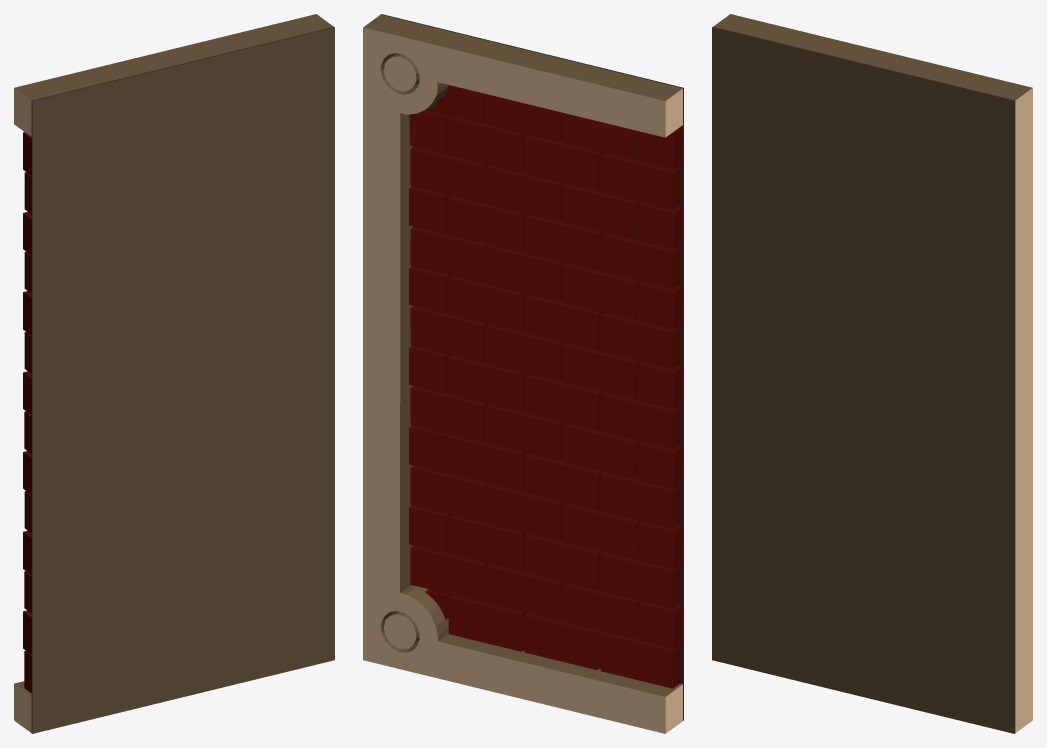
File: LeftWall.fbx
3 views of the same model, side by side, from view 1: azimuth 30°, elevation 25°; view 2: azimuth 150°, elevation 25°; view 3: azimuth 330°, elevation 25° (orthographic).
Parts seen in each view (by area): view 1: MurExtremoIZ; view 2: MurExtremoIZ; view 3: MurExtremoIZ.
Part boxes in pixels (box(x1,y1,x2,y2)): MurExtremoIZ: box(14, 14, 334, 733); MurExtremoIZ: box(363, 14, 683, 733); MurExtremoIZ: box(712, 14, 1032, 733).
Size of the model in its own units: 200 by 400 by 21.
